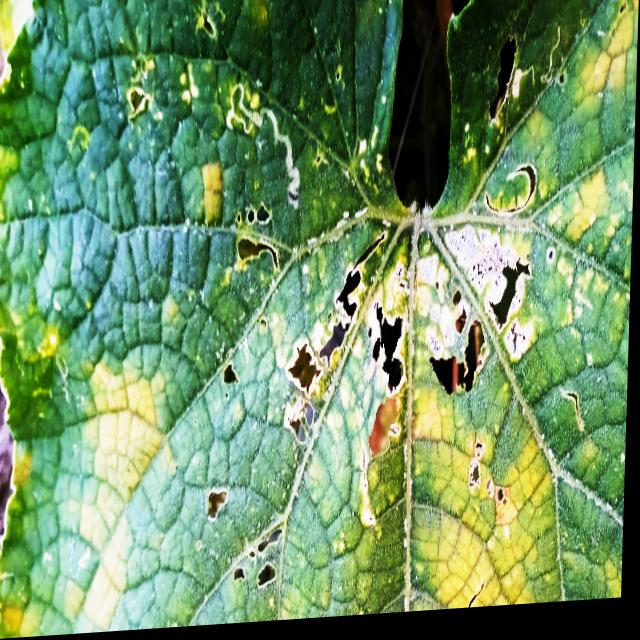Anthracnose: (274, 215, 539, 458), (228, 199, 284, 277), (486, 31, 525, 133), (230, 523, 290, 580), (118, 83, 157, 125), (203, 478, 234, 524), (218, 352, 246, 390)
